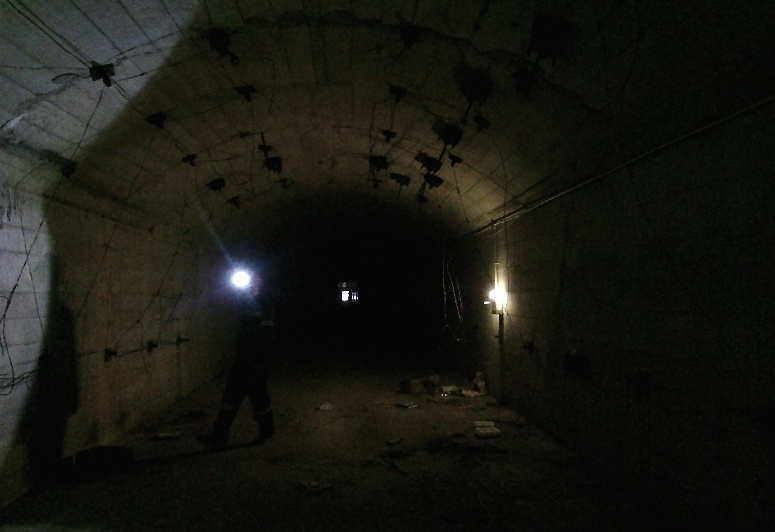person: (196, 274, 293, 450)
